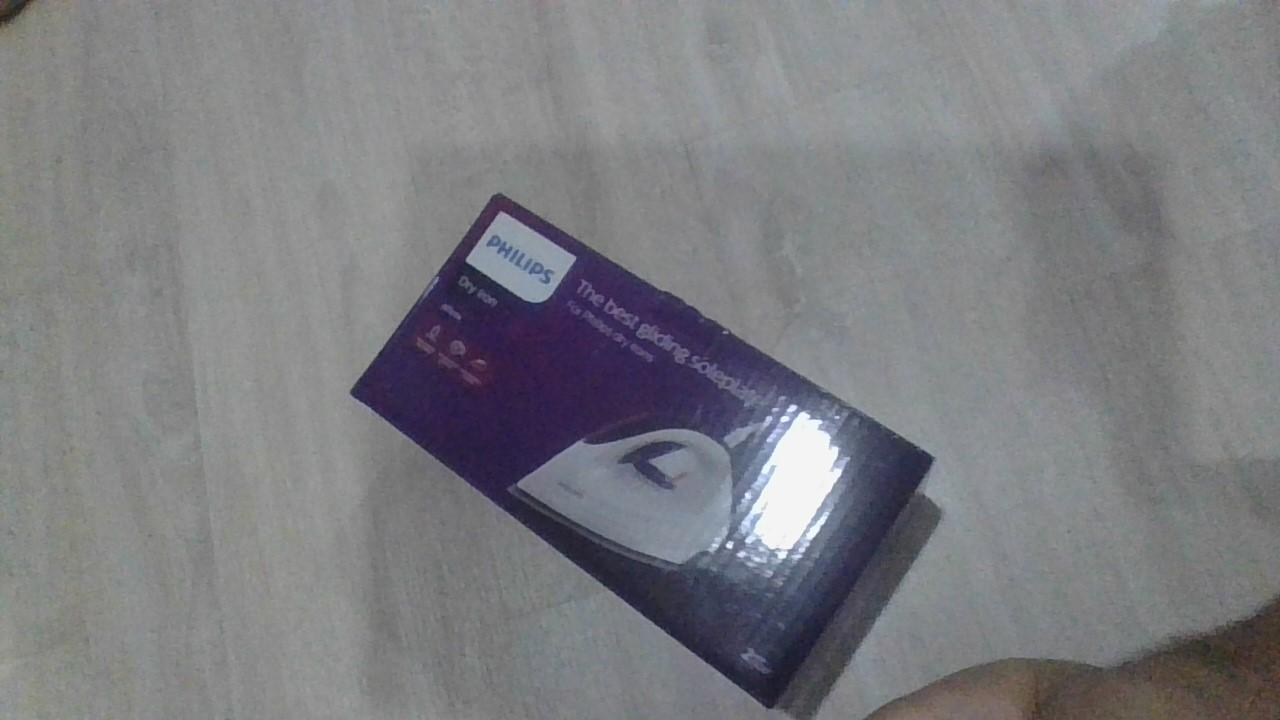IRON: (345, 189, 942, 713)
